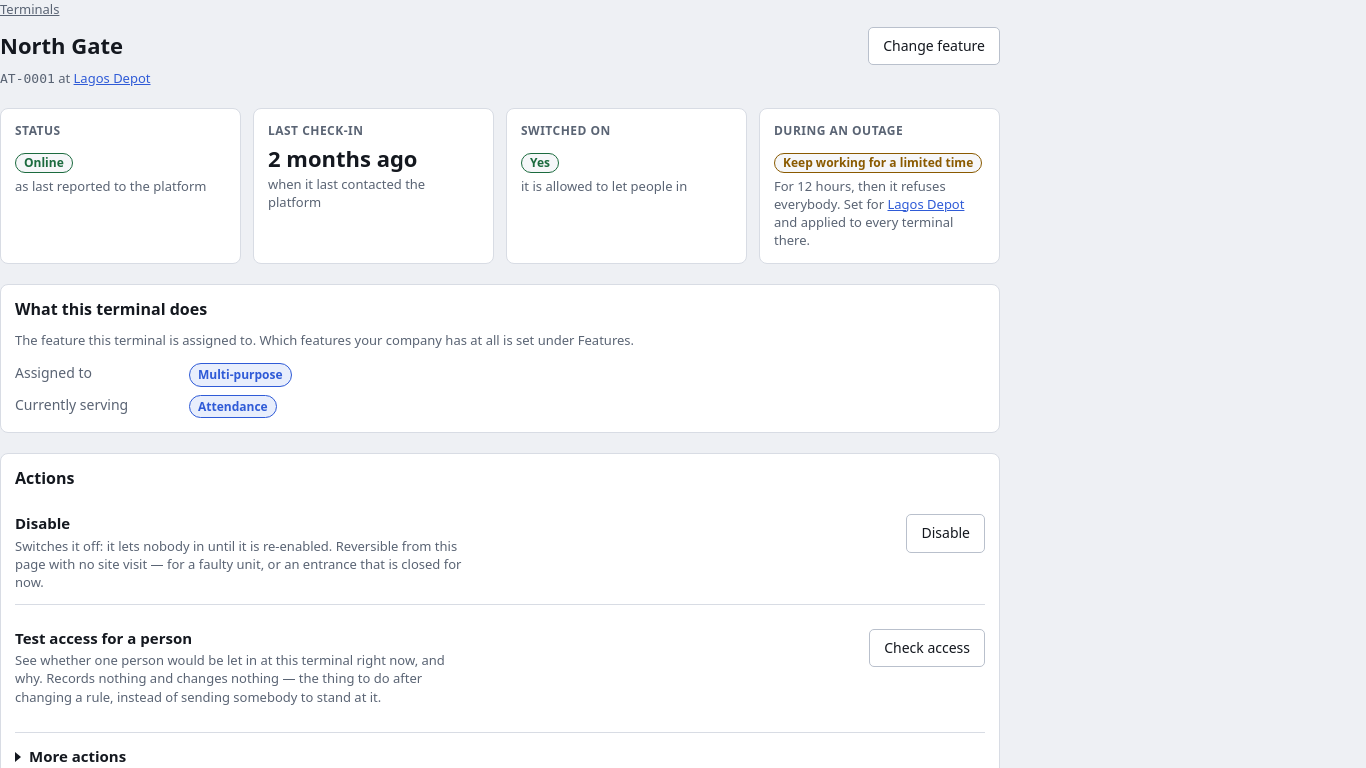
application mode › assigns a mode and refreshes the detail without a stale read
The width and height of the screenshot is (1366, 768).
Click the button "Change feature": (934, 46) [868,27,1000,65]
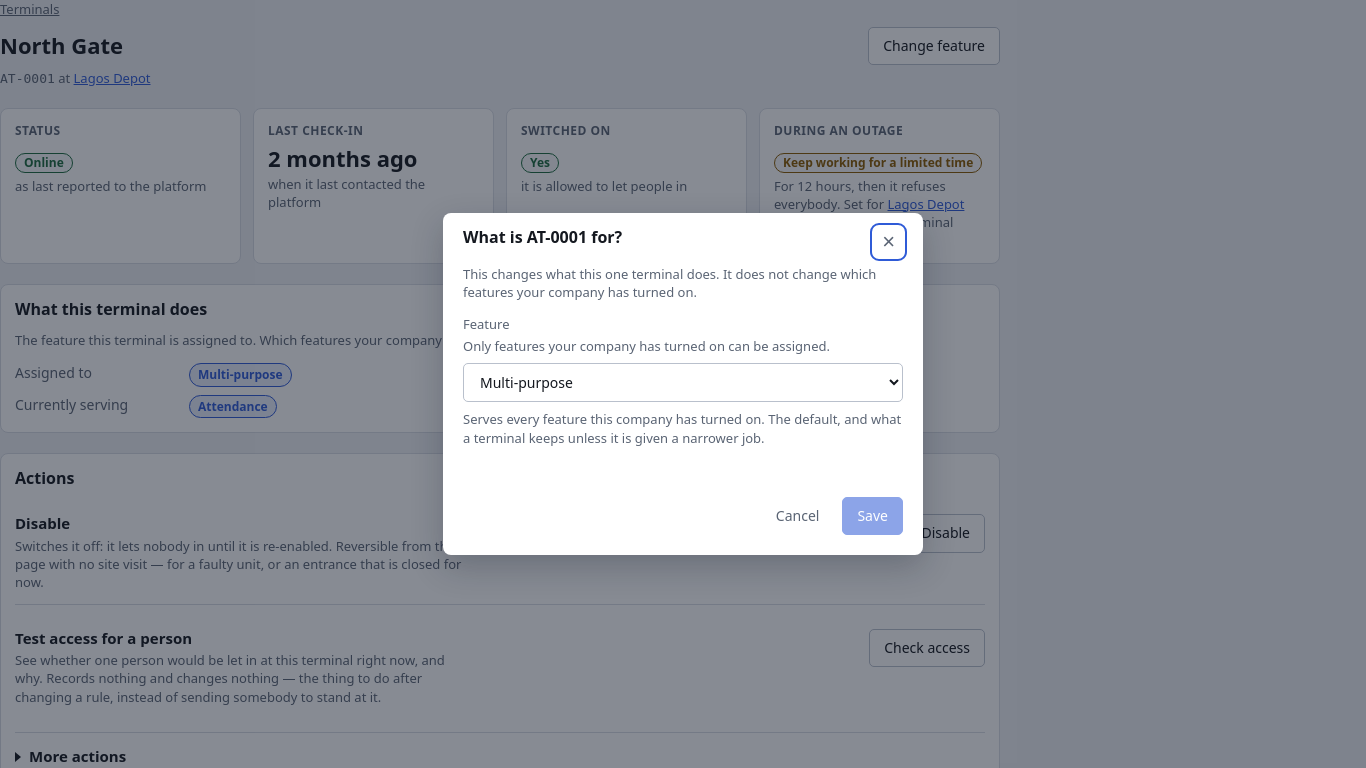
Select "Attendance" in the dropdown labelled "Feature": (683, 383) [463,363,903,402]
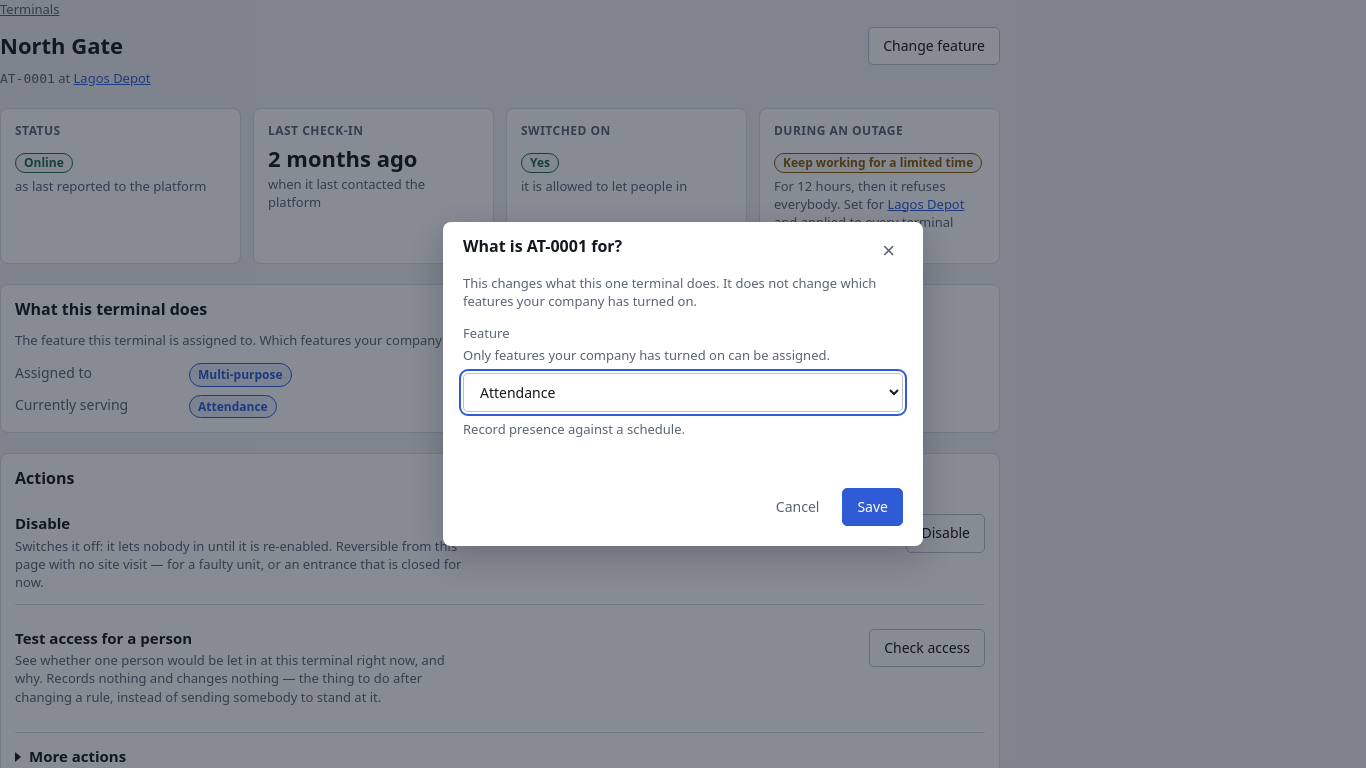
Click the button "Save": (873, 507) [842,488,903,526]
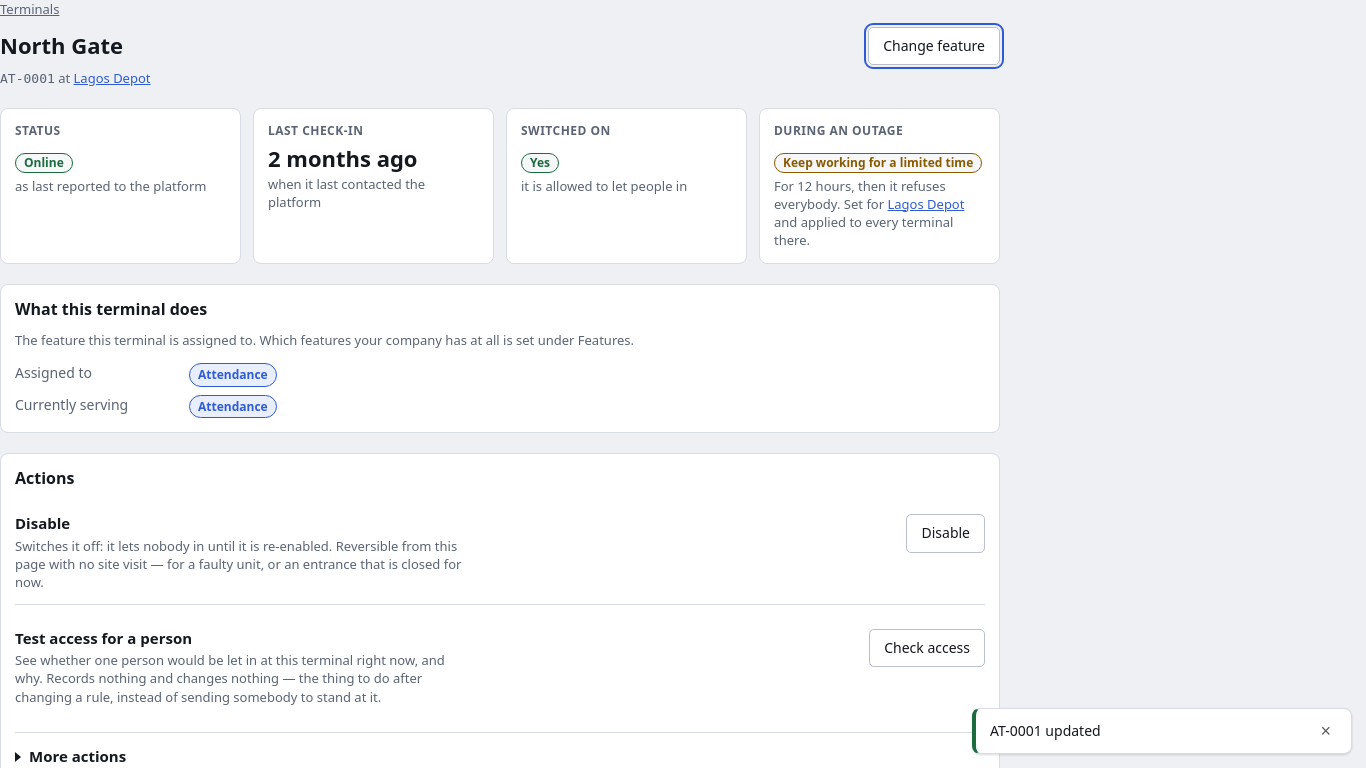
Check: the dialog is gone
